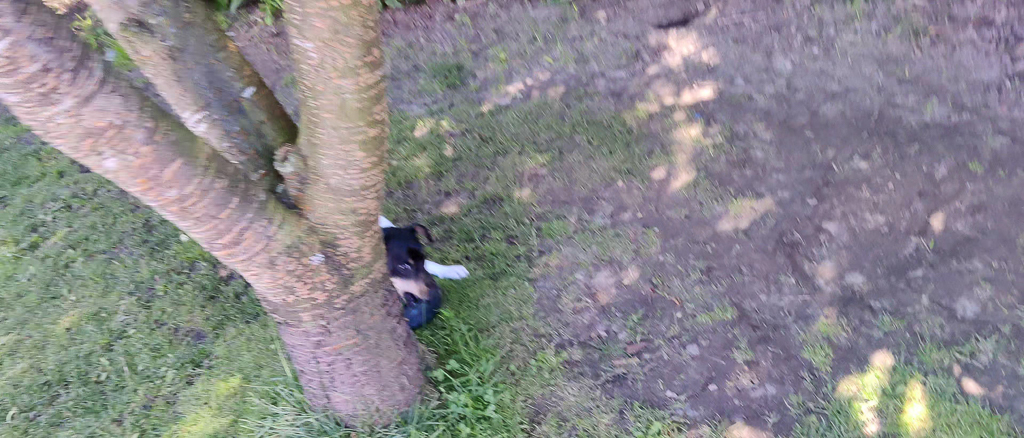Dog: (369, 200, 478, 311)
